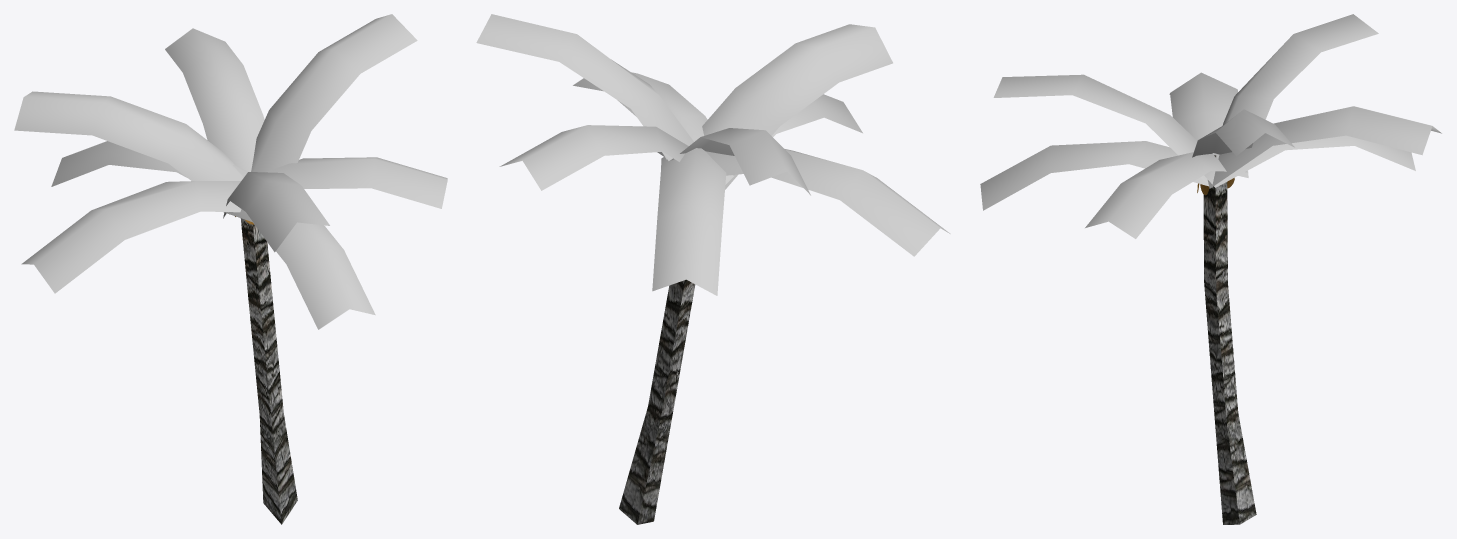
File: da palm tree.fbx
3 renders of one model, left to right at view 1: azimuth 30°, elevation 25°; view 2: azimuth 150°, elevation 25°; view 3: azimuth 270°, elevation 25°, orthographic. The views are drawn at different scales.
Parts seen in each view (by area): view 1: pasted__group2; view 2: pasted__group2; view 3: pasted__group2.
Boxes of the visible parts, x1=… form: pasted__group2: x1=14, y1=14, x2=447, y2=524; pasted__group2: x1=476, y1=14, x2=950, y2=524; pasted__group2: x1=980, y1=14, x2=1441, y2=524.
Size of the model in its own units: 14.99 by 16.49 by 15.18.
